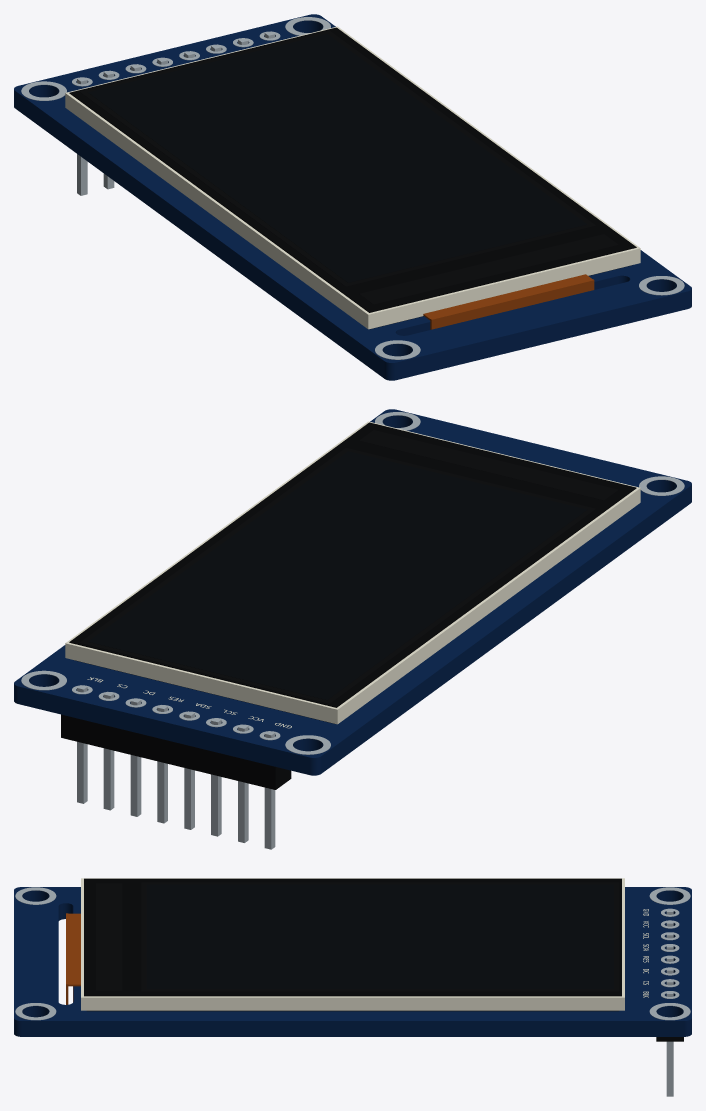
Rendered from XIITIA_1p9_reference_with_header.glb.
3 views of the same model, one above another, from view 1: azimuth 30°, elevation 25°; view 2: azimuth 150°, elevation 25°; view 3: azimuth 270°, elevation 25° (orthographic). The views are drawn at different scales.
Visible parts, largest first — view 1: Active_area_22p695x42p72, PCB_29x62_holes_ESTIMATED, Glass_border, LCD_package_base_representative_25p8x49p72, Viewing_window_23p695x43p72, LCD_driver_strip_ESTIMATED, Flex_through_slot_ESTIMATED, Flex_front_fold_ESTIMATED; view 2: Active_area_22p695x42p72, PCB_29x62_holes_ESTIMATED, LCD_package_base_representative_25p8x49p72, Glass_border, Header_plastic_ESTIMATED, Viewing_window_23p695x43p72, LCD_driver_strip_ESTIMATED, Header_pin_7_ESTIMATED, Header_pin_6_ESTIMATED, Header_pin_1_ESTIMATED, Header_pin_2_ESTIMATED, Header_pin_5_ESTIMATED (+3 smaller); view 3: Active_area_22p695x42p72, PCB_29x62_holes_ESTIMATED, LCD_package_base_representative_25p8x49p72, Glass_border, Viewing_window_23p695x43p72, LCD_driver_strip_ESTIMATED, Adhesive_ESTIMATED, Flex_front_fold_ESTIMATED, Header_pin_8_ESTIMATED, Mount_pad_front_1, Mount_pad_front_2, Mount_pad_front_3 (+1 smaller).
Part boxes in pixels (<box>): Active_area_22p695x42p72: <box>88,34,587,282</box>; PCB_29x62_holes_ESTIMATED: <box>14,14,691,380</box>; Glass_border: <box>69,27,636,312</box>; LCD_package_base_representative_25p8x49p72: <box>65,26,640,329</box>; Viewing_window_23p695x43p72: <box>79,30,595,286</box>; LCD_driver_strip_ESTIMATED: <box>359,234,618,304</box>; Flex_through_slot_ESTIMATED: <box>430,279,594,329</box>; Flex_front_fold_ESTIMATED: <box>423,274,592,321</box>; Active_area_22p695x42p72: <box>88,451,587,700</box>; PCB_29x62_holes_ESTIMATED: <box>14,409,691,775</box>; LCD_package_base_representative_25p8x49p72: <box>65,421,640,724</box>; Glass_border: <box>69,422,636,707</box>; Header_plastic_ESTIMATED: <box>61,714,291,789</box>; Viewing_window_23p695x43p72: <box>79,448,595,703</box>; LCD_driver_strip_ESTIMATED: <box>359,430,618,500</box>; Header_pin_7_ESTIMATED: <box>103,691,114,810</box>; Header_pin_6_ESTIMATED: <box>130,698,141,816</box>; Header_pin_1_ESTIMATED: <box>264,731,275,849</box>; Header_pin_2_ESTIMATED: <box>238,724,248,842</box>; Header_pin_5_ESTIMATED: <box>157,705,167,823</box>; Active_area_22p695x42p72: <box>146,884,613,989</box>; PCB_29x62_holes_ESTIMATED: <box>14,887,691,1036</box>; LCD_package_base_representative_25p8x49p72: <box>81,878,624,1010</box>; Glass_border: <box>84,878,621,996</box>; Viewing_window_23p695x43p72: <box>141,882,619,991</box>; LCD_driver_strip_ESTIMATED: <box>96,883,122,990</box>; Adhesive_ESTIMATED: <box>87,1010,618,1011</box>; Flex_front_fold_ESTIMATED: <box>66,913,80,986</box>; Header_pin_8_ESTIMATED: <box>666,991,673,1096</box>; Mount_pad_front_1: <box>15,887,56,904</box>; Mount_pad_front_2: <box>649,887,690,904</box>; Mount_pad_front_3: <box>15,1003,56,1020</box>.
Size of the model in its own units: 0.029 by 0.0118 by 0.062.
